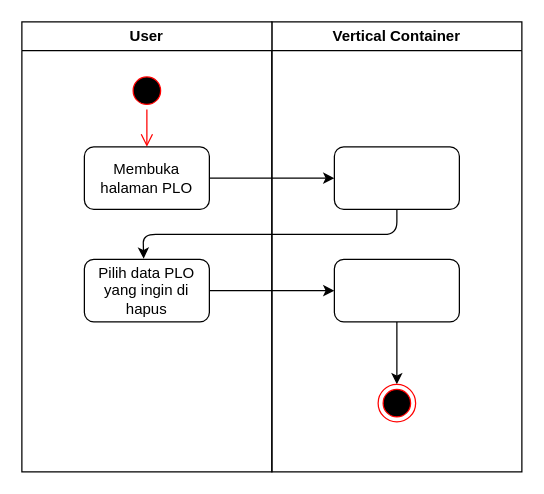
Image size: 544x494. Some labels were removed from this diagram. Here are the shapes that lost their labels. From the top down, the centre of each, then its label:
[396,177]: Menampilkan halaman PLO
[396,290]: Perubahan data tersimpan
